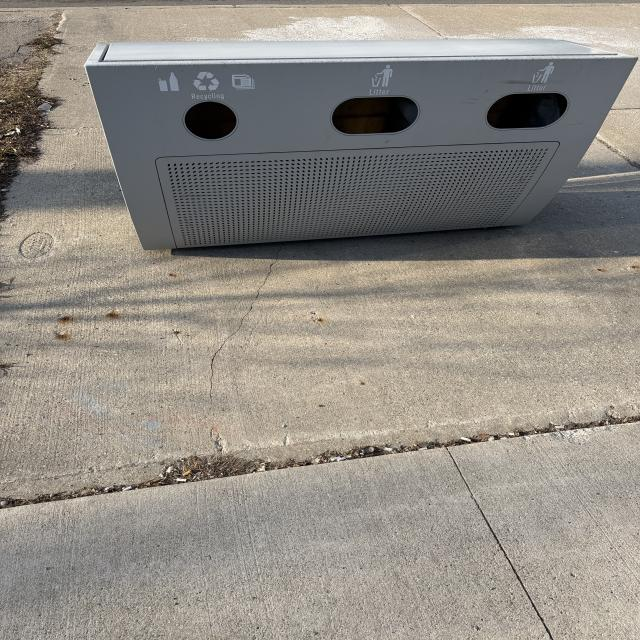Dustbin: (84, 38, 638, 256)
